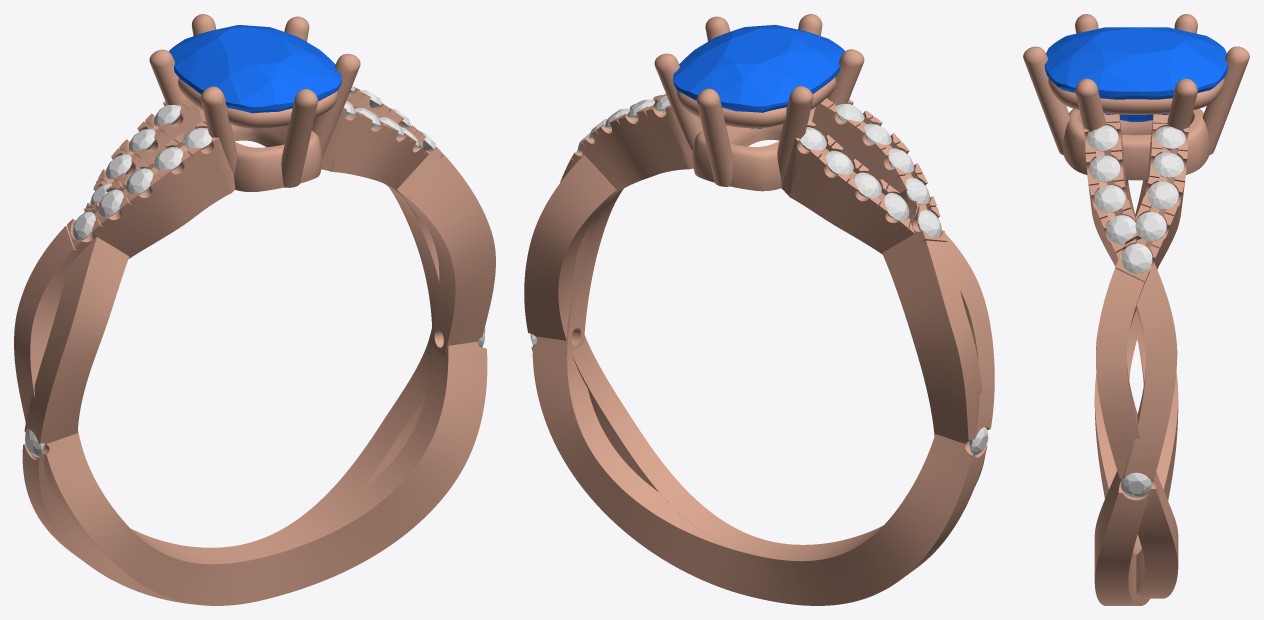
Rendered from bluesapphire-cushion-rosegold-6prong-twist-sidestones.glb.
3 renders of one model, left to right at view 1: azimuth 30°, elevation 25°; view 2: azimuth 150°, elevation 25°; view 3: azimuth 270°, elevation 25°, orthographic.
Parts seen in each view (by area): view 1: metal, stone; view 2: metal, stone; view 3: metal, stone, side.015, side.016, side.017, side.012, side.011, side.013, side.018, side.014, side.010, side.019.
Part boxes in pixels (bbox=[...]): metal: bbox=[14, 14, 495, 605]; stone: bbox=[169, 25, 341, 129]; metal: bbox=[524, 14, 994, 605]; stone: bbox=[673, 24, 845, 128]; metal: bbox=[1023, 14, 1249, 605]; stone: bbox=[1044, 27, 1228, 121]; side.015: bbox=[1121, 243, 1152, 273]; side.016: bbox=[1135, 212, 1166, 241]; side.017: bbox=[1147, 181, 1178, 209]; side.012: bbox=[1094, 185, 1125, 212]; side.011: bbox=[1106, 215, 1136, 244]; side.013: bbox=[1089, 155, 1120, 182]; side.018: bbox=[1153, 152, 1183, 177]; side.014: bbox=[1087, 125, 1118, 151]; side.010: bbox=[1121, 472, 1151, 497]; side.019: bbox=[1154, 126, 1185, 148].
Bounding box in the file's own units: 19.97 × 23.03 × 8.8.
